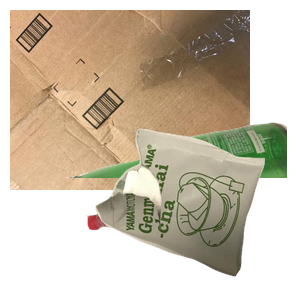cardboard: (10, 10, 250, 190)
glass: (60, 120, 300, 300)
plastic: (84, 191, 242, 300)
trash: (93, 126, 300, 300)
